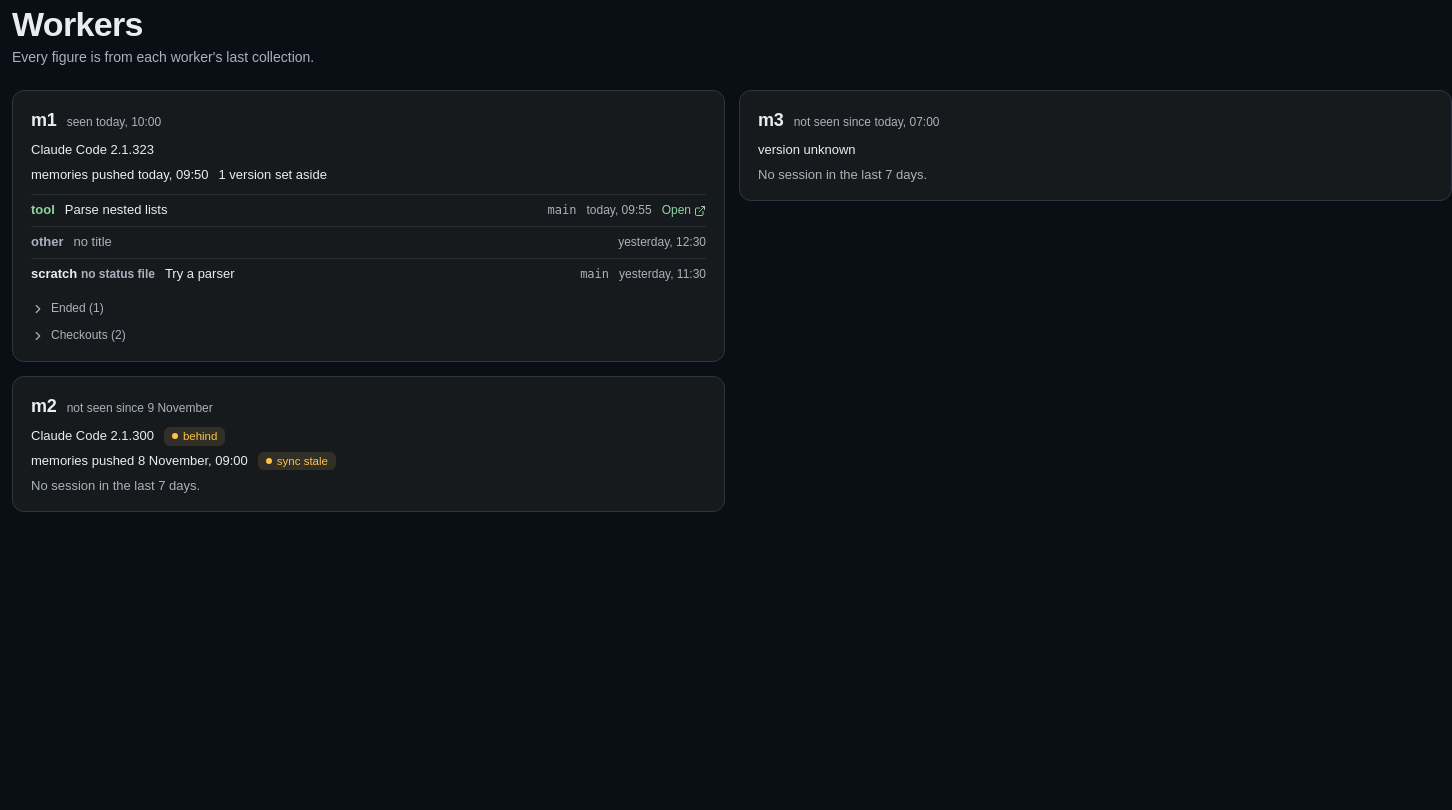
ended sessions are folded apart from the others until asked for
Check: the number of list items is 3, box [31,194,706,226]; [31,226,706,258]; [31,258,706,290]
Check: the text "Archived run" is not shown
Click the button "Ended (1)": x=67, y=309 [31,300,104,317]
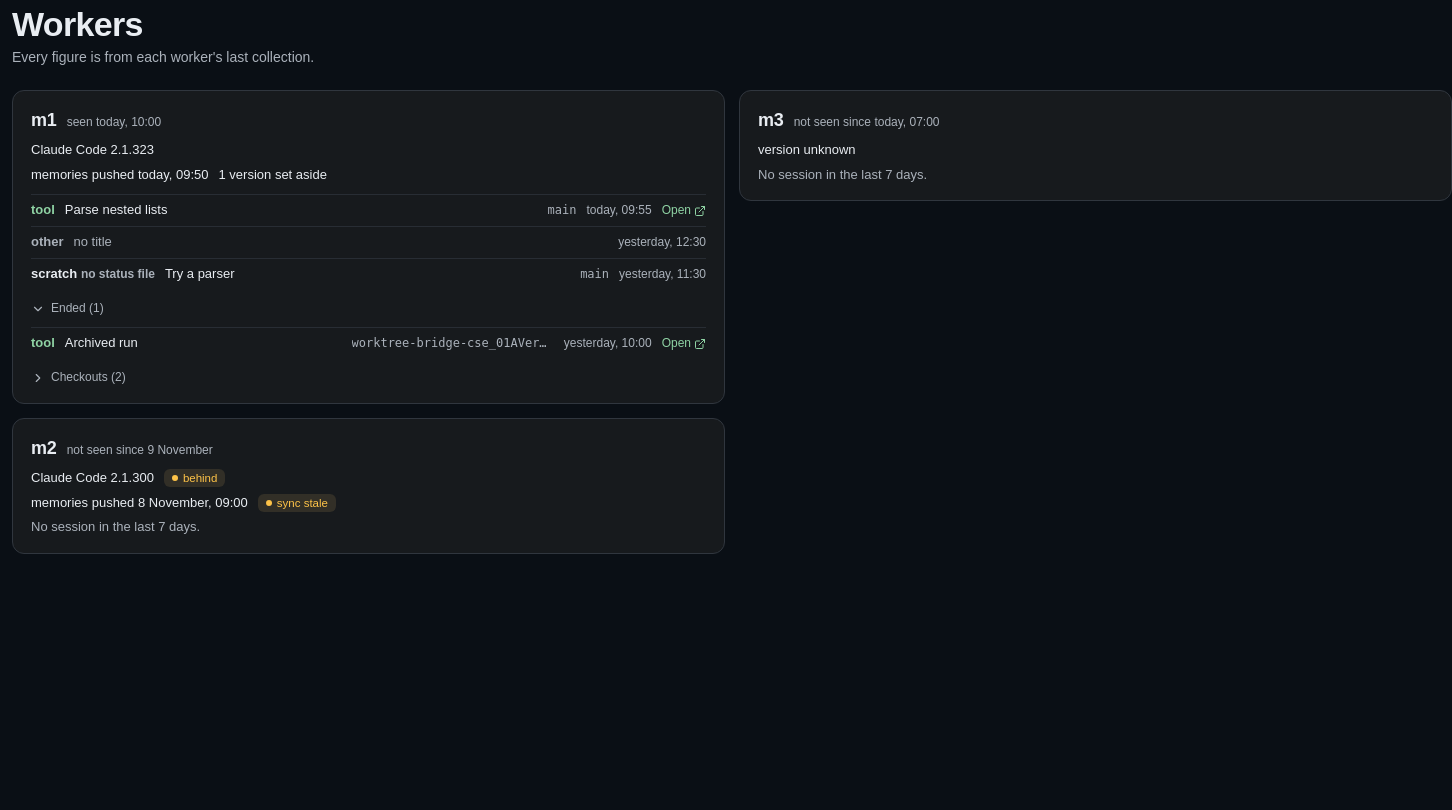
Check: the button "Ended (1)" is expanded, box [31,300,104,317]
